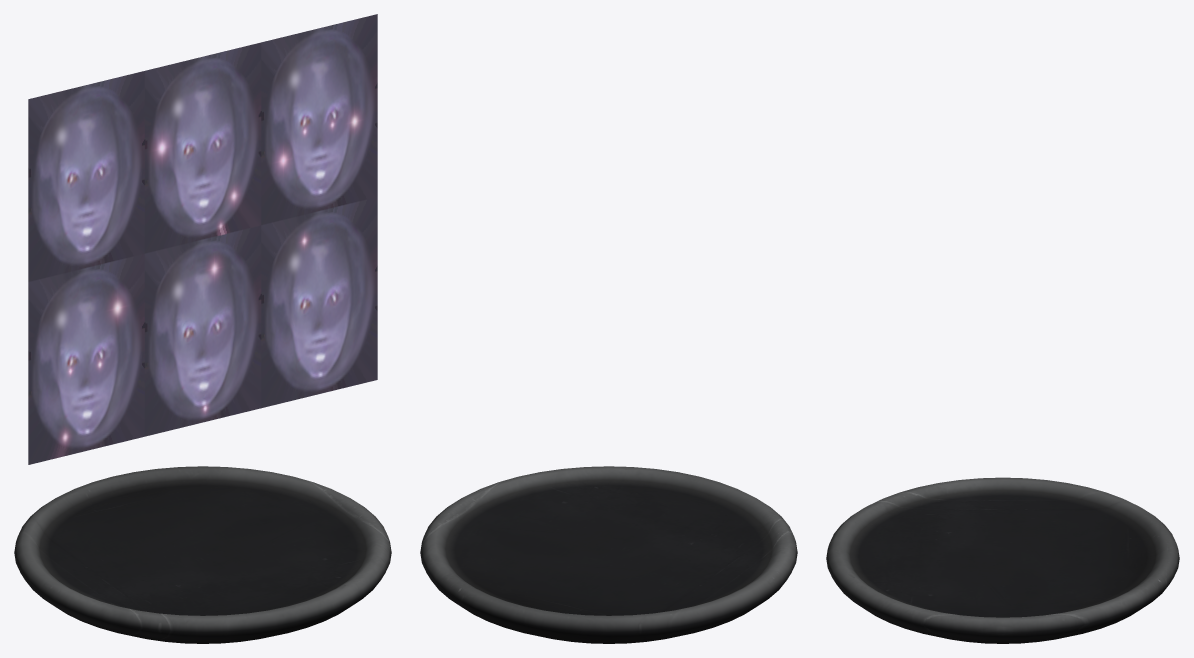
File: mm6_deco_mcryst01.glb
The picture shows the model from 3 angles, left to right: view 1: azimuth 30°, elevation 25°; view 2: azimuth 150°, elevation 25°; view 3: azimuth 270°, elevation 25°; orthographic projection. The views are drawn at different scales.
Visible parts, largest first — view 1: Mcryst01; view 2: Mcryst01; view 3: Mcryst01.
Boxes of the visible parts, box(x1,y1,x2,y2) form: Mcryst01: box(14, 14, 391, 643); Mcryst01: box(420, 466, 797, 643); Mcryst01: box(826, 477, 1179, 643).
Bounding box in the file's own units: 0.5263 × 0.7711 × 0.492.
Materials: 2 (2 with a texture image).
